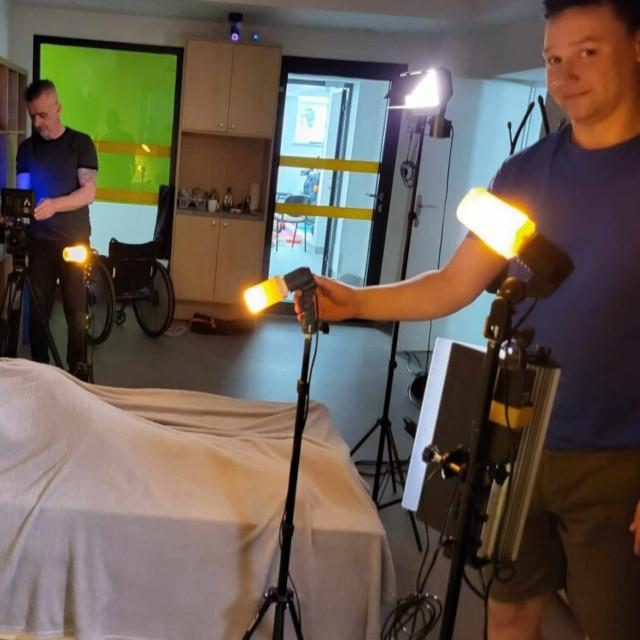mezczyzna: (502, 0, 640, 640), (22, 78, 96, 383)
